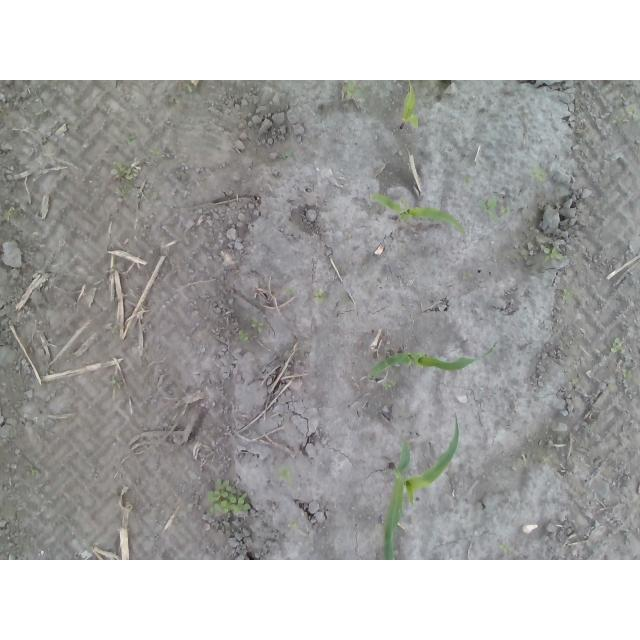Maize: (381, 410, 461, 560), (368, 341, 497, 379), (368, 193, 465, 235), (399, 80, 419, 130)
Weeds: (206, 476, 251, 516), (111, 163, 134, 182), (478, 198, 498, 219), (343, 80, 362, 100), (275, 465, 293, 483), (542, 247, 562, 261), (531, 166, 546, 182), (251, 317, 264, 333), (610, 337, 623, 353), (625, 106, 640, 119), (312, 290, 327, 303), (116, 185, 132, 197), (123, 133, 136, 147), (612, 111, 625, 123), (5, 207, 16, 221), (29, 463, 40, 477), (107, 380, 123, 389), (182, 83, 195, 94), (238, 330, 250, 341), (498, 544, 514, 552), (382, 380, 396, 389), (501, 207, 512, 218), (562, 288, 572, 300), (288, 519, 298, 531), (621, 368, 632, 378), (280, 150, 292, 159), (35, 109, 47, 116), (283, 288, 297, 294), (463, 176, 473, 184), (110, 325, 119, 333), (151, 147, 161, 154), (462, 273, 472, 280), (572, 379, 579, 385), (429, 80, 436, 85)
